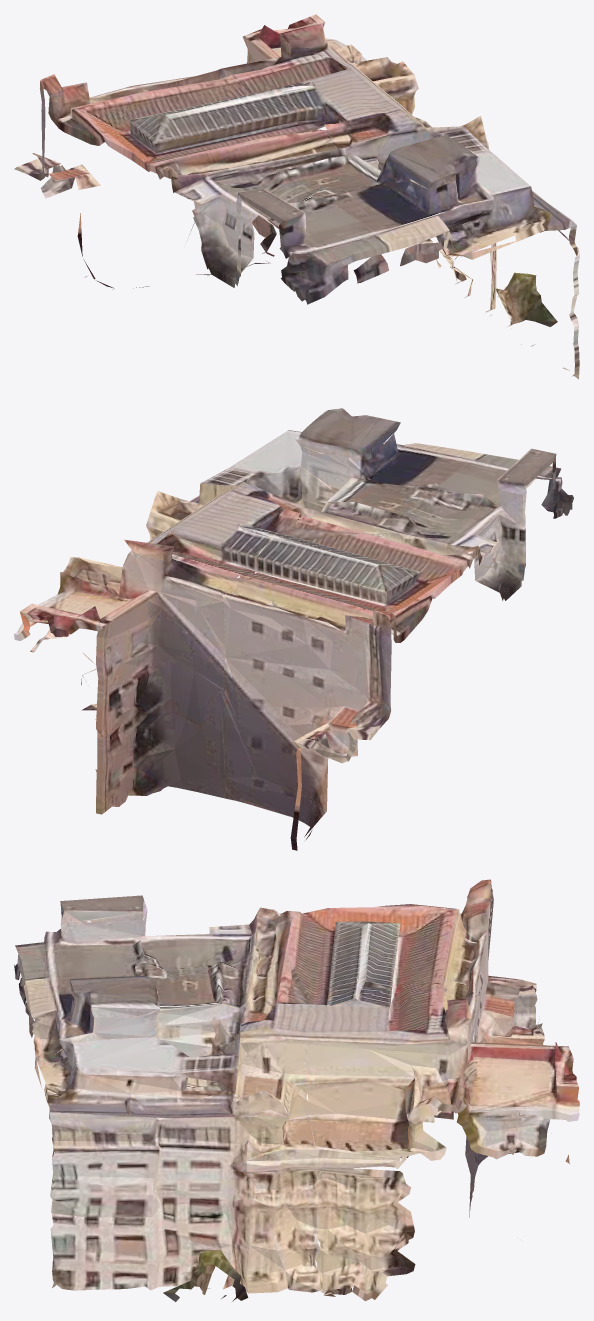
3 views of the same model, one above another, from view 1: azimuth 30°, elevation 25°; view 2: azimuth 150°, elevation 25°; view 3: azimuth 270°, elevation 25° (orthographic). The views are drawn at different scales.
Parts seen in each view (by area): view 1: Mesh_0; view 2: Mesh_0; view 3: Mesh_0.
Boxes of the visible parts, <box> form: Mesh_0: <box>14,14,579,379</box>; Mesh_0: <box>14,408,573,850</box>; Mesh_0: <box>14,879,579,1301</box>.
Size of the model in its own units: 32.8 by 20.3 by 41.23.
Materials: 2 (2 with a texture image).
